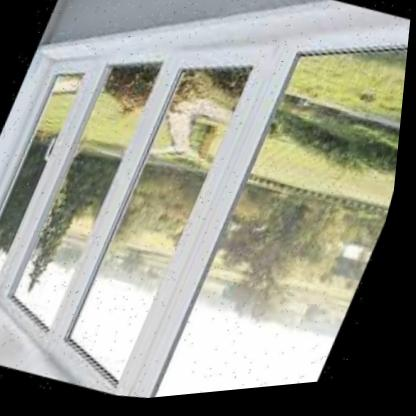Window: (155, 0, 415, 402), (46, 26, 270, 410), (0, 25, 180, 357), (0, 50, 100, 289)
